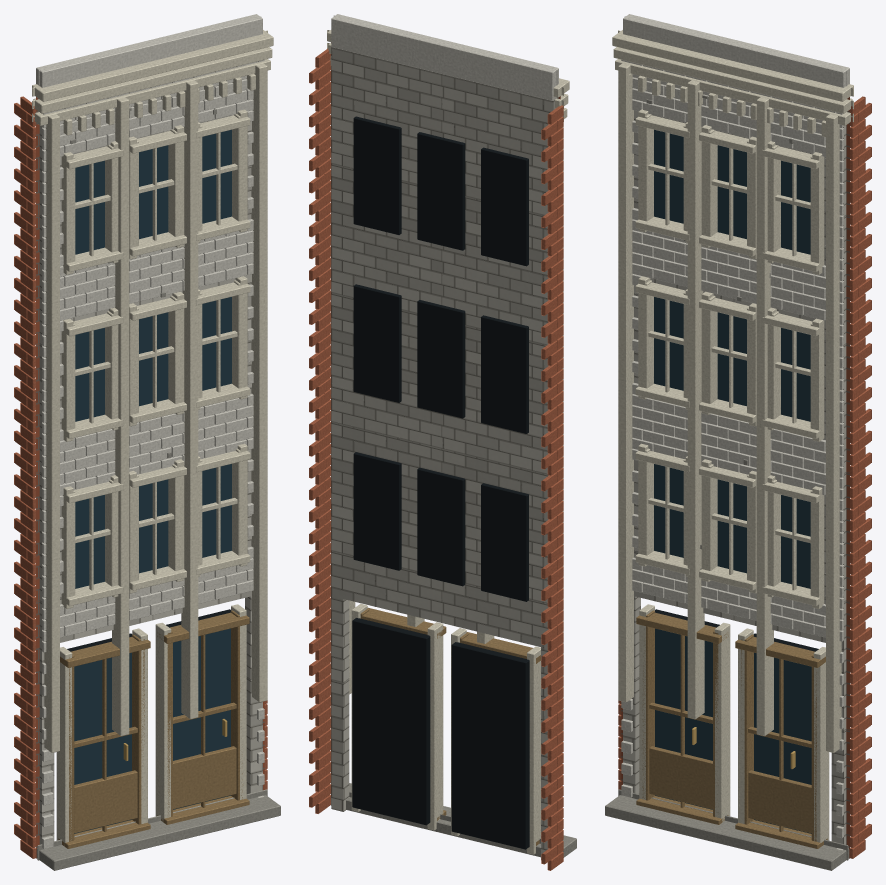
The model's file is OFFC20_lod0.glb.
The picture shows the model from 3 angles, left to right: view 1: azimuth 30°, elevation 25°; view 2: azimuth 150°, elevation 25°; view 3: azimuth 330°, elevation 25°; orthographic projection.
Visible parts, largest first — view 1: OFFC20_FRONT_LOD0; view 2: OFFC20_FRONT_LOD0; view 3: OFFC20_FRONT_LOD0.
Boxes of the visible parts, x1,y1,x2,y2 form: OFFC20_FRONT_LOD0: [14, 14, 280, 870]; OFFC20_FRONT_LOD0: [309, 14, 576, 870]; OFFC20_FRONT_LOD0: [605, 14, 871, 870].
Bounding box in the file's own units: 3.84 × 12.26 × 1.02.
15 materials, 12 textured.
